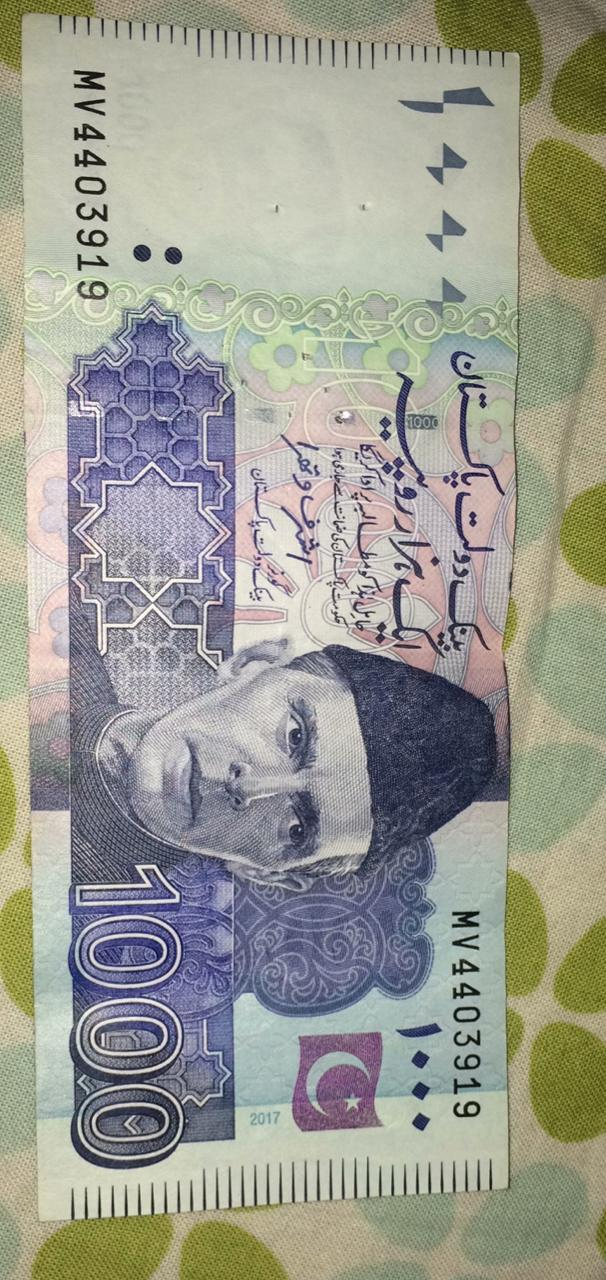1000 rupee: (17, 16, 540, 1220)
